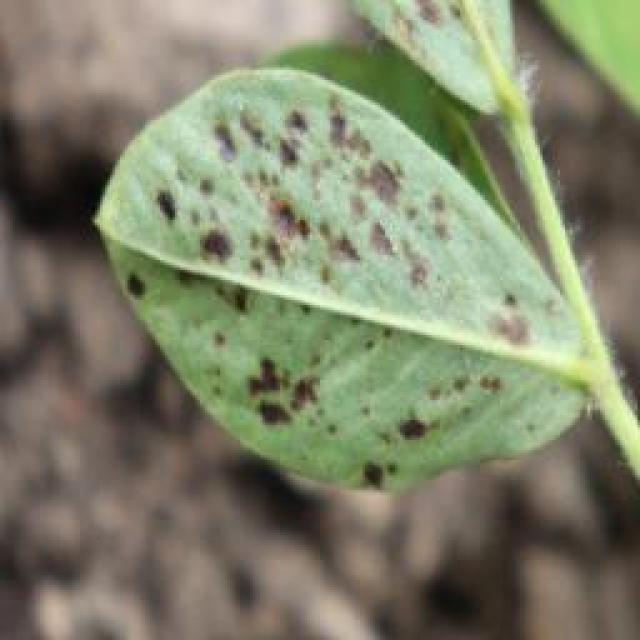Whitefly: (114, 72, 526, 494), (301, 0, 505, 146)
